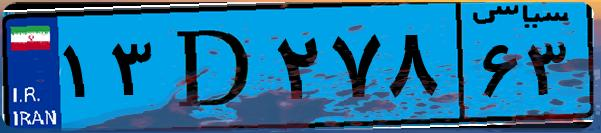1: (57, 26, 110, 100)
2: (270, 28, 330, 110)
3: (525, 38, 570, 115), (110, 28, 158, 98)
6: (475, 38, 525, 113)
7: (330, 28, 385, 110)
8: (385, 28, 445, 110)
D: (158, 12, 270, 120)
